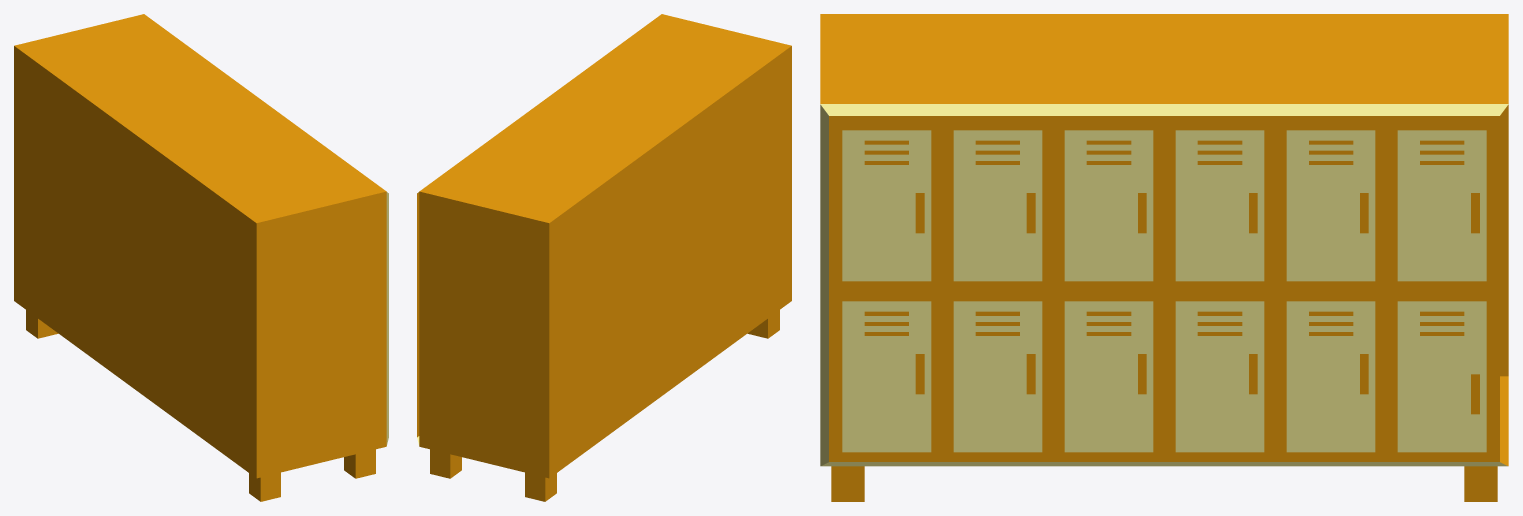
The model's file is 2_GardrobeShort.fbx.
The picture shows the model from 3 angles, left to right: view 1: azimuth 30°, elevation 25°; view 2: azimuth 150°, elevation 25°; view 3: azimuth 270°, elevation 25°; orthographic projection. The views are drawn at different scales.
Parts seen in each view (by area): view 1: Cube.109; view 2: Cube.109; view 3: Cube.109.
Boxes of the visible parts, bbox=[...] form: Cube.109: bbox=[14, 14, 388, 501]; Cube.109: bbox=[417, 14, 791, 501]; Cube.109: bbox=[820, 14, 1508, 501].
Bounding box in the file's own units: 310 × 105 × 200.
